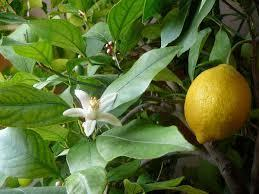lemon: (184, 63, 252, 144)
